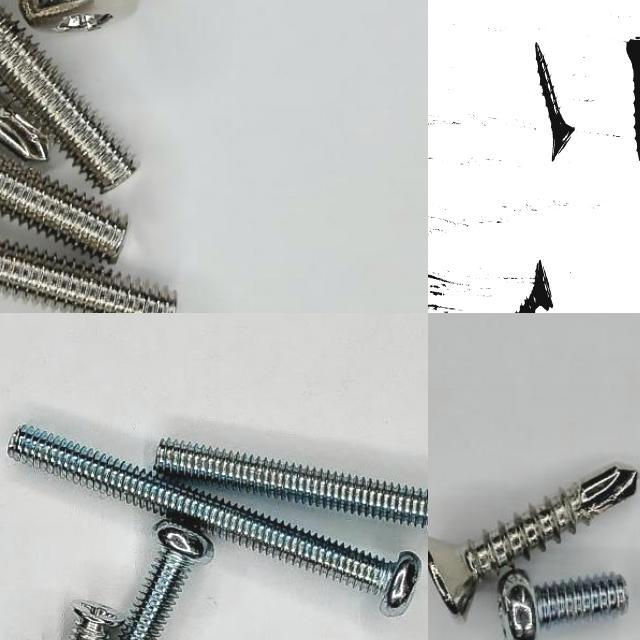Screw: (8, 426, 422, 616), (428, 464, 638, 618), (0, 5, 135, 191), (154, 438, 428, 527), (0, 155, 127, 263), (0, 242, 176, 313), (119, 520, 213, 640), (499, 571, 630, 640), (535, 41, 575, 160), (19, 0, 139, 31), (72, 601, 124, 640), (515, 260, 553, 313), (627, 35, 640, 160)
